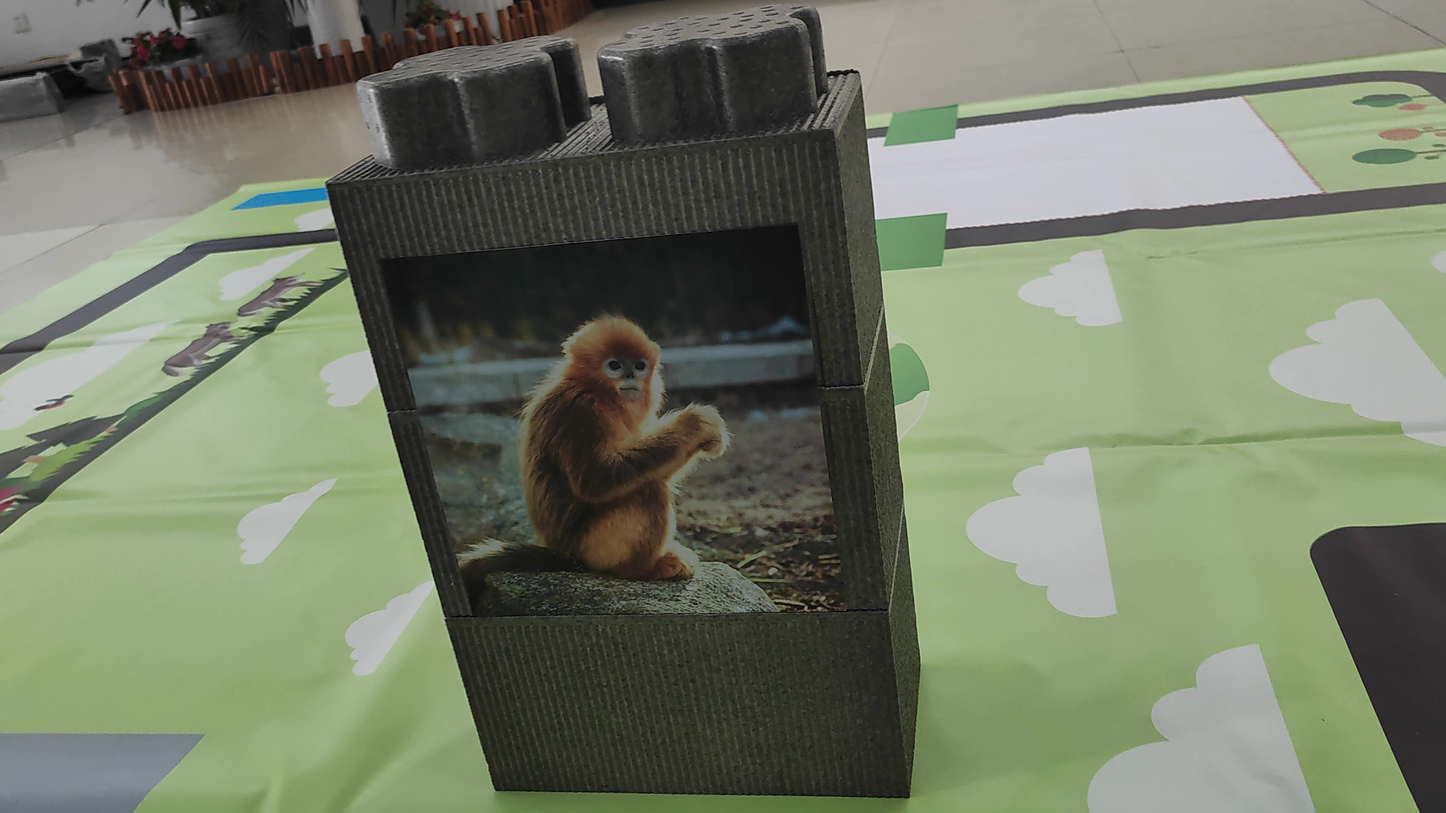monkey: (444, 267, 747, 607)
